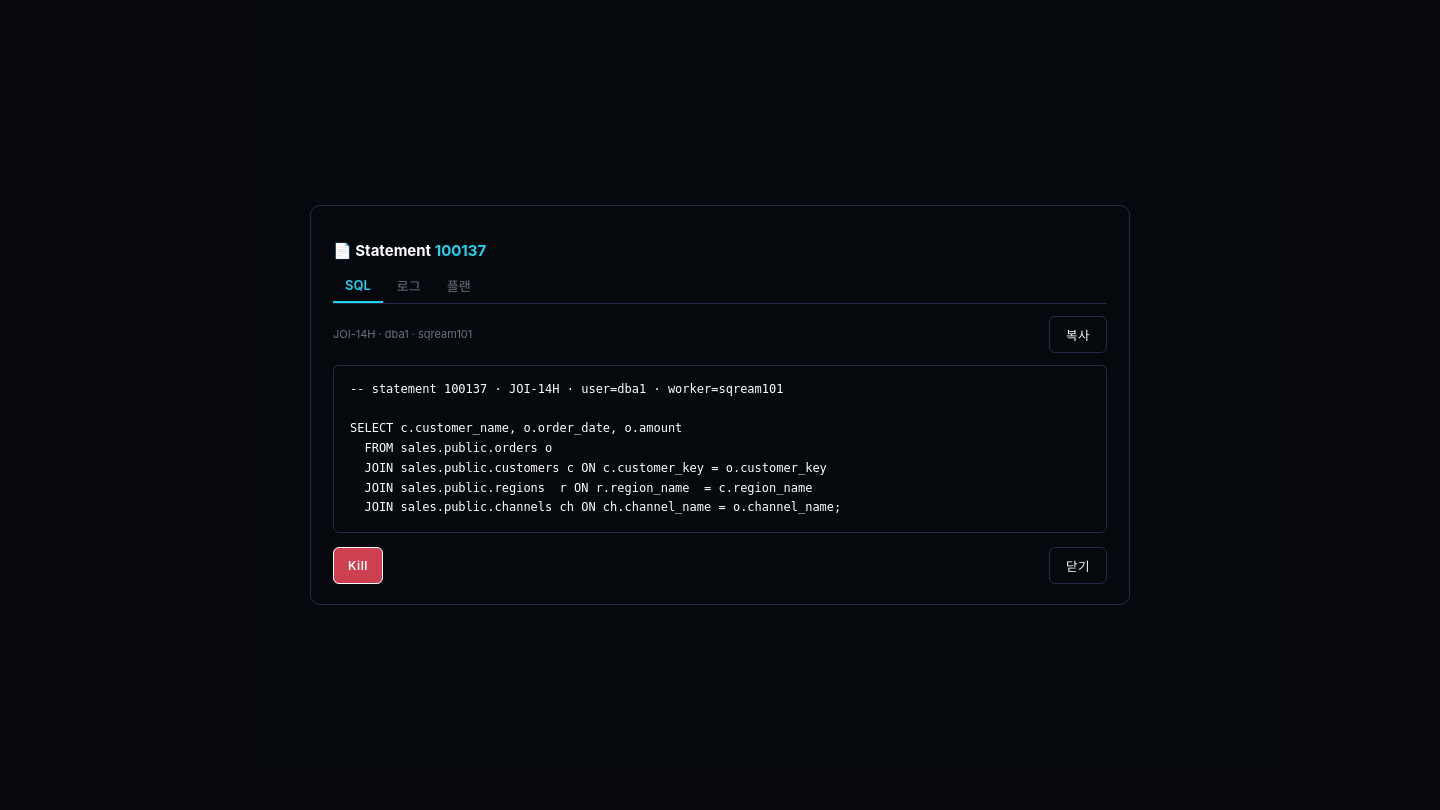
Test case: 탭 › 플랜 탭 — qid 계열(JOI)에 맞는 구조화 실행계획 표 (X8)
The width and height of the screenshot is (1440, 810).
What coordinates should you click on to do the following:
click the tab "플랜"
I would click on:
 (459, 286)
Its box is top-left (435, 270), bottom-right (483, 303).
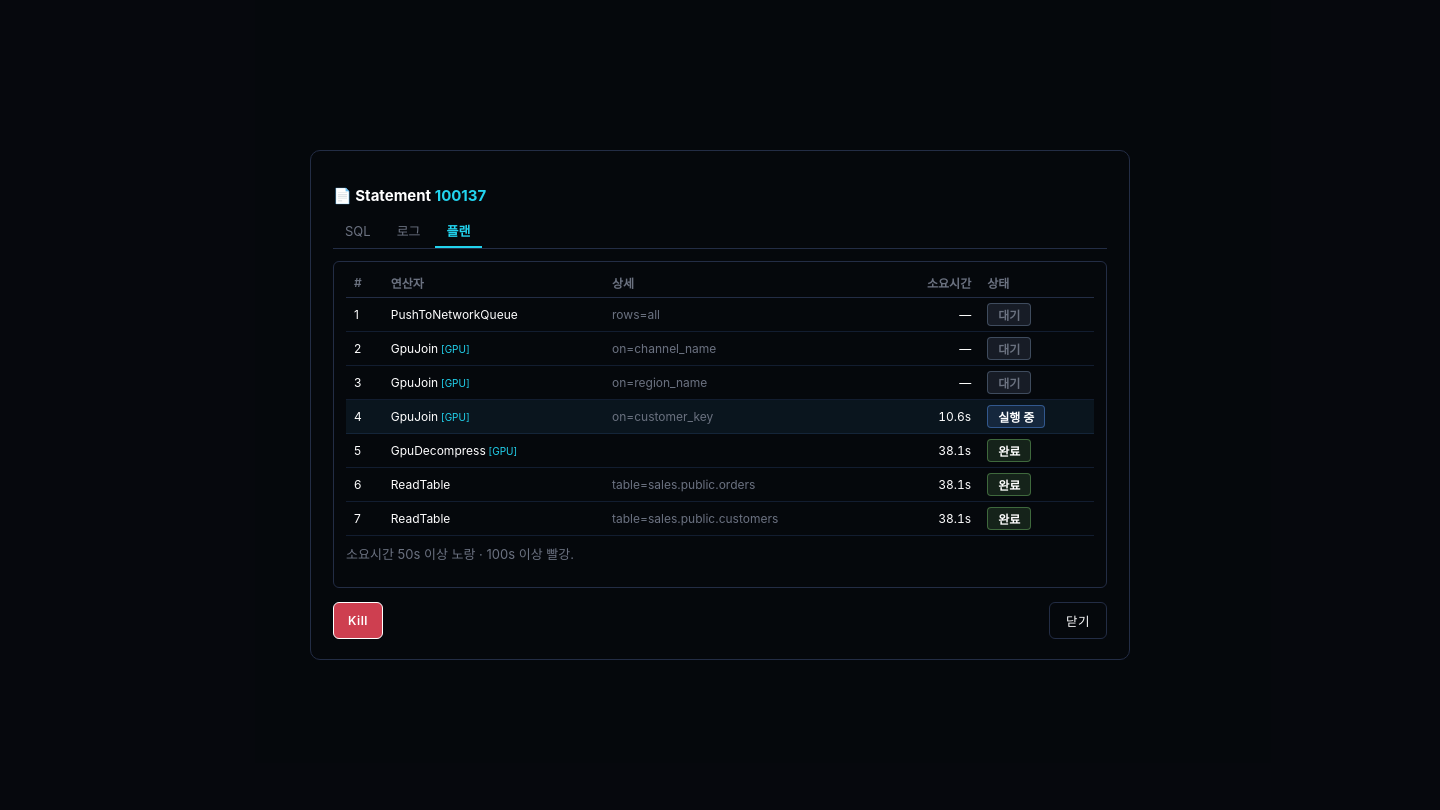
Expected: the panel named "플랜" shows "GpuJoin", top-left (391, 341), bottom-right (438, 356)
Expected: the table is shown, top-left (346, 268), bottom-right (1094, 536)
Expected: the panel named "플랜" shows "소요시간", top-left (927, 276), bottom-right (971, 291)
